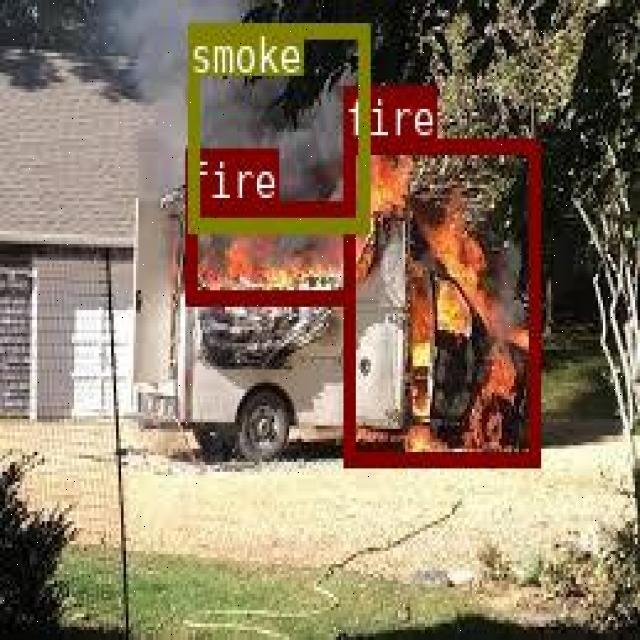fire: (343, 137, 536, 464), (184, 198, 352, 303)
smoke: (187, 23, 367, 231)
